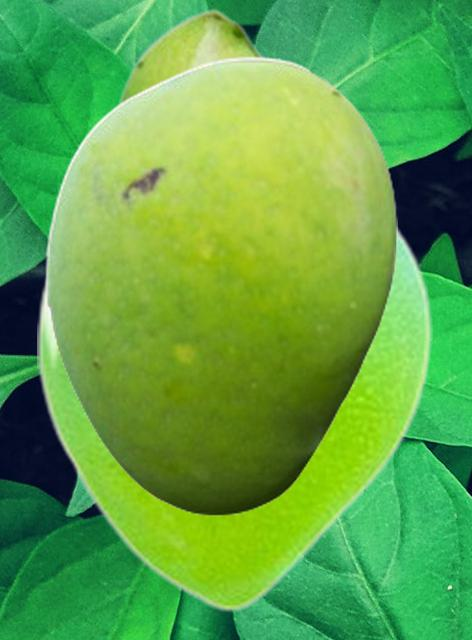green_mango: (44, 55, 396, 515), (37, 218, 431, 612), (113, 7, 267, 106)
